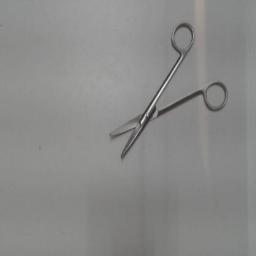Curved Mayo Scissors: (105, 18, 229, 164)
